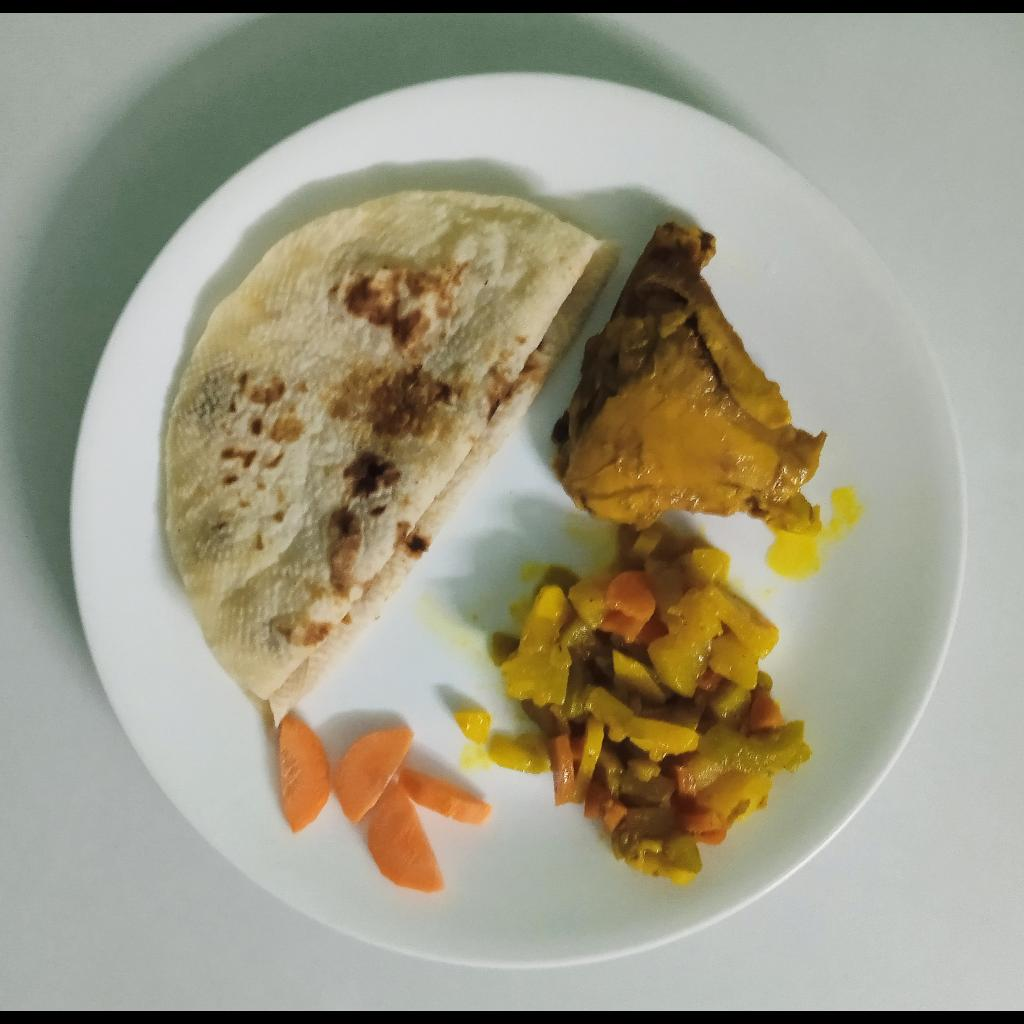carrot: (278, 716, 494, 894)
chicken: (550, 224, 827, 536)
ruti: (165, 190, 624, 729)
vegetable: (452, 530, 816, 890)
